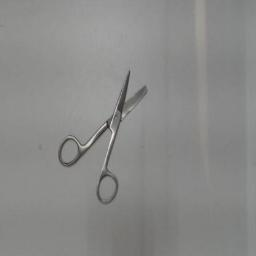Dressing Scissors: (54, 59, 158, 209)
